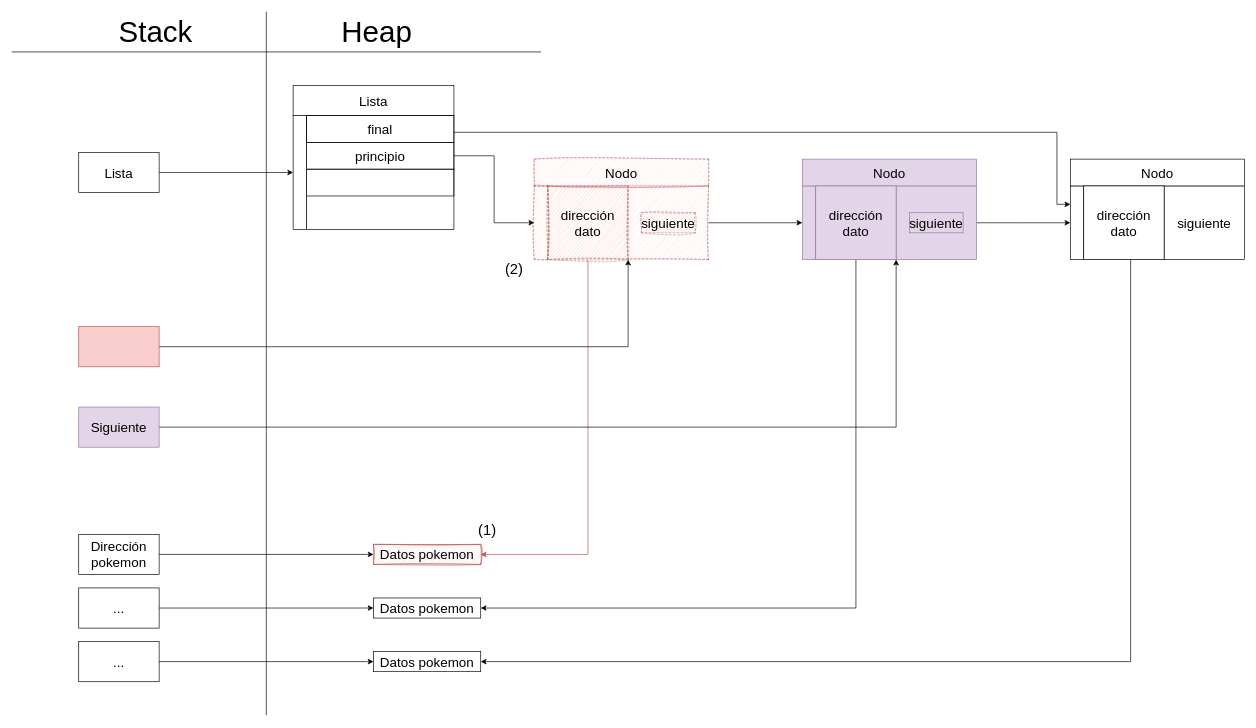
Some shapes in this 1256 by 728 pixel diagram are drawn without their labels. Each missing label, with the box of its shape:
cantidad: (306, 169, 454, 196)
Nodo a borrar: (78, 326, 159, 367)
